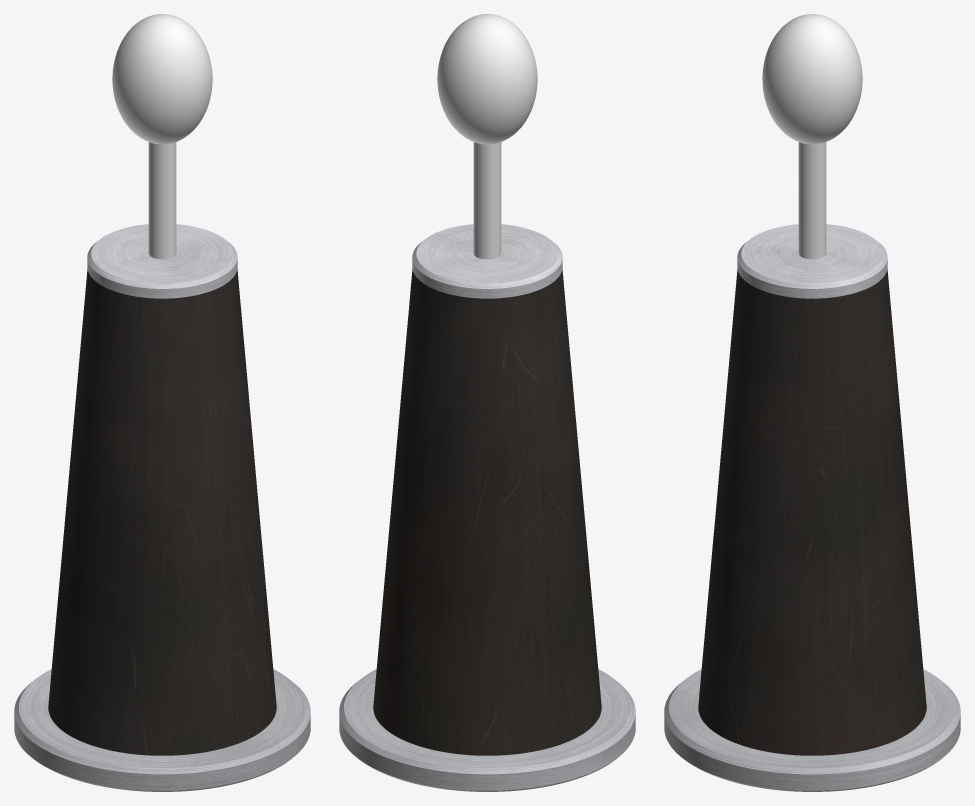
Rendered from bishop-black-hd.glb.
3 views of the same model, side by side, from view 1: azimuth 30°, elevation 25°; view 2: azimuth 150°, elevation 25°; view 3: azimuth 270°, elevation 25° (orthographic).
Visible parts, largest first — view 1: ferro-orbis_bishop_black; view 2: ferro-orbis_bishop_black; view 3: ferro-orbis_bishop_black.
Part boxes in pixels (left/top/right/bottom): ferro-orbis_bishop_black: left=14, top=14, right=310, bottom=791; ferro-orbis_bishop_black: left=339, top=14, right=635, bottom=791; ferro-orbis_bishop_black: left=664, top=14, right=960, bottom=791.
Bounding box in the file's own units: 0.5088 × 1.35 × 0.5088.
5 materials, 3 textured.
